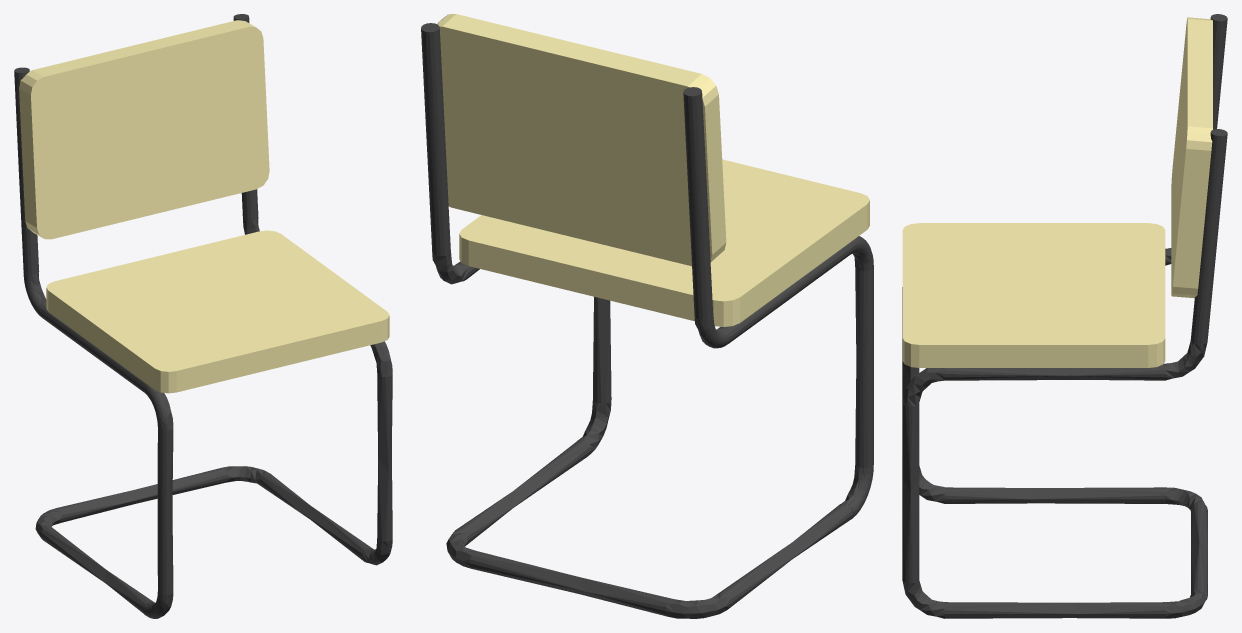
The model's file is chair.glb.
The picture shows the model from 3 angles, left to right: view 1: azimuth 30°, elevation 25°; view 2: azimuth 150°, elevation 25°; view 3: azimuth 270°, elevation 25°; orthographic projection. The views are drawn at different scales.
Visible parts, largest first — view 1: Mesh_0; view 2: Mesh_0; view 3: Mesh_0.
Part boxes in pixels (x1=…): Mesh_0: x1=14, y1=14, x2=392, y2=618; Mesh_0: x1=421, y1=14, x2=873, y2=618; Mesh_0: x1=902, y1=14, x2=1227, y2=618.
Bounding box in the file's own units: 0.4326 × 0.8065 × 0.4873.
